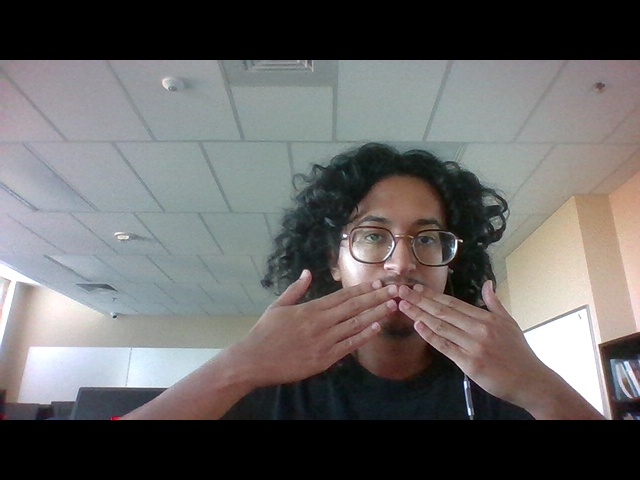thanks: (233, 264, 554, 388)
